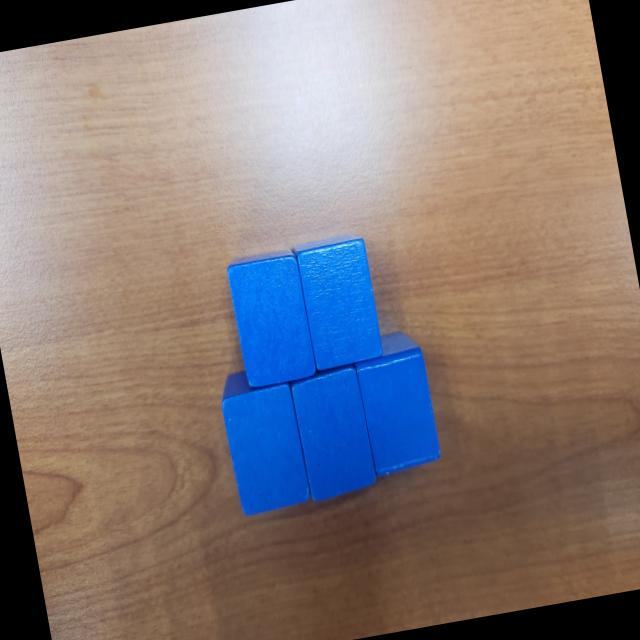blue: (215, 361, 314, 521), (350, 325, 444, 479), (288, 231, 386, 373), (222, 247, 318, 391), (286, 363, 380, 503)
